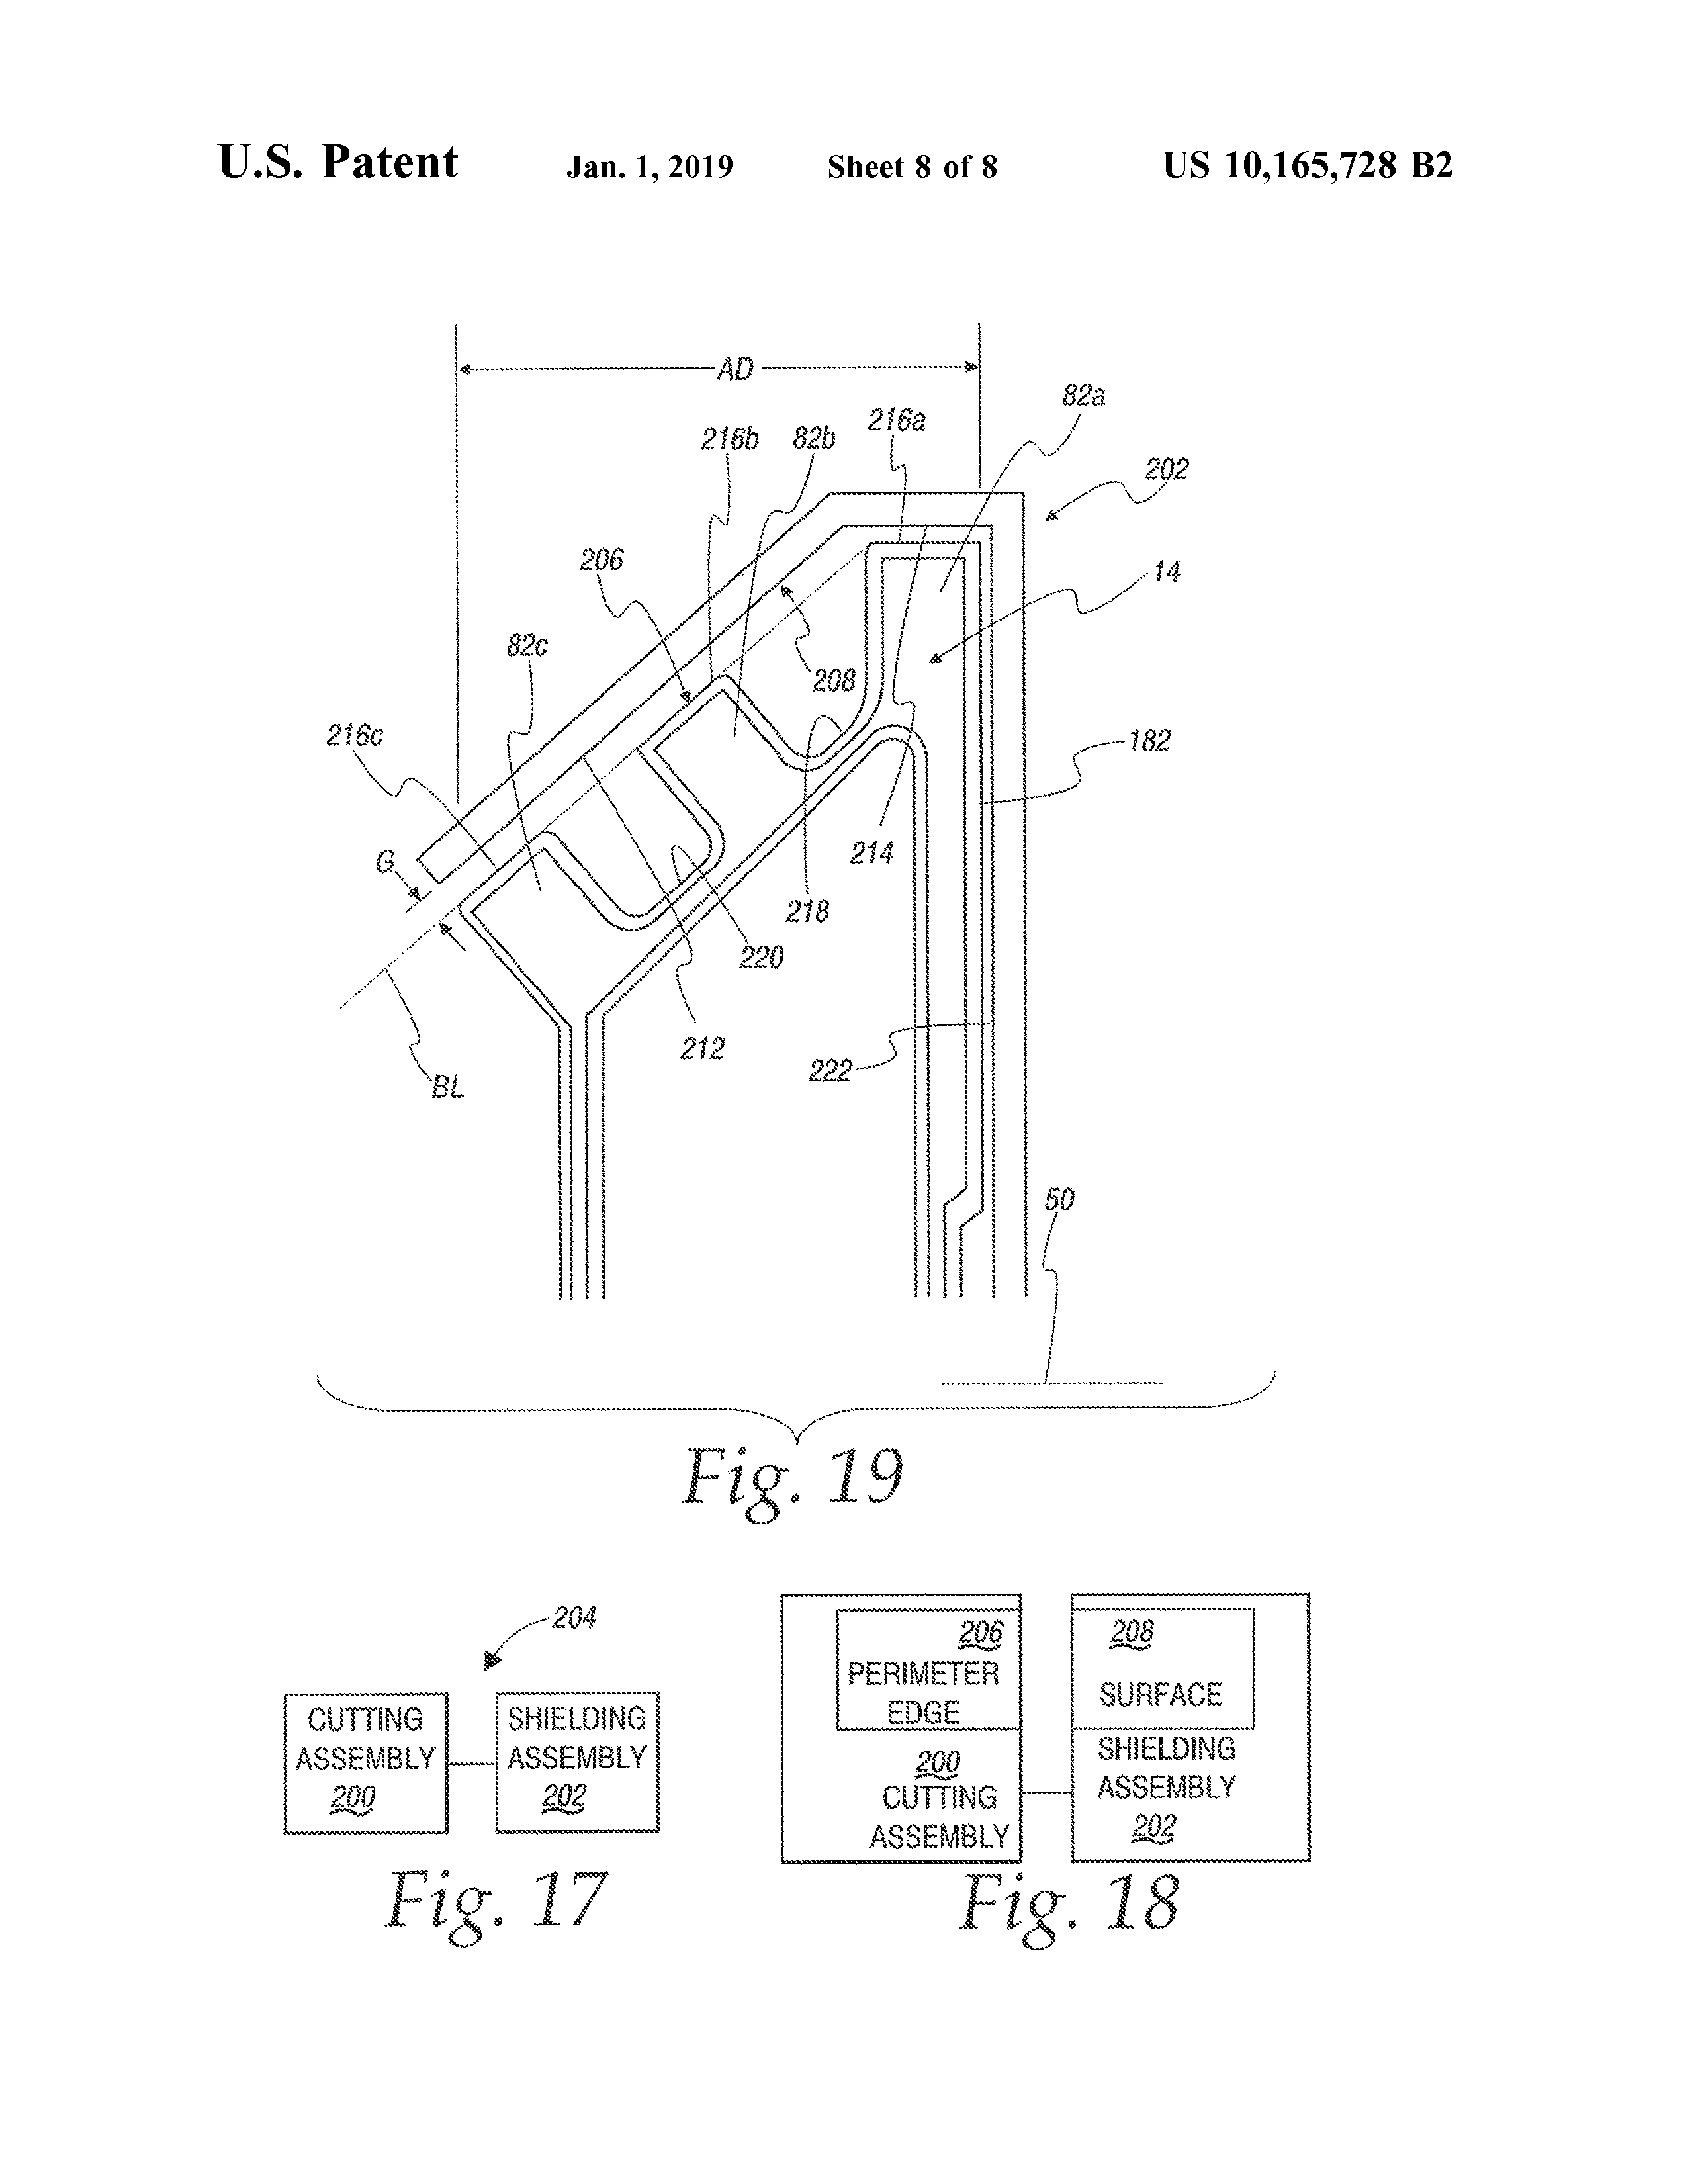patent image: (247, 288, 1337, 1551), (750, 1563, 1340, 1962), (241, 1551, 721, 1971)
